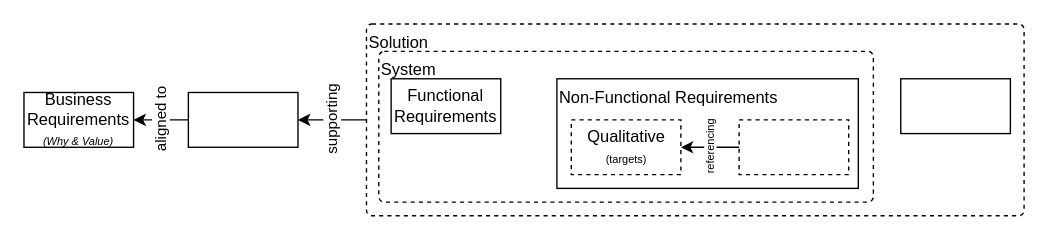
Some shapes in this 1048 by 240 pixel diagram are drawn without their labels. The shapes that lost their labels are listed below. From the top down, each one's centre as x and y in pixels, then its label:
point 242,119: Stakeholders Requirements (and System Users)
point 954,105: Transitional Requirements (Delivery & Change)
point 793,147: Quantitative (constraints)
